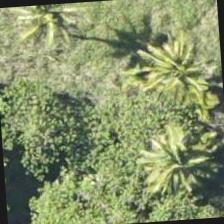Kelapa_Sawit: (129, 23, 223, 120), (135, 118, 223, 215), (12, 0, 105, 52)
